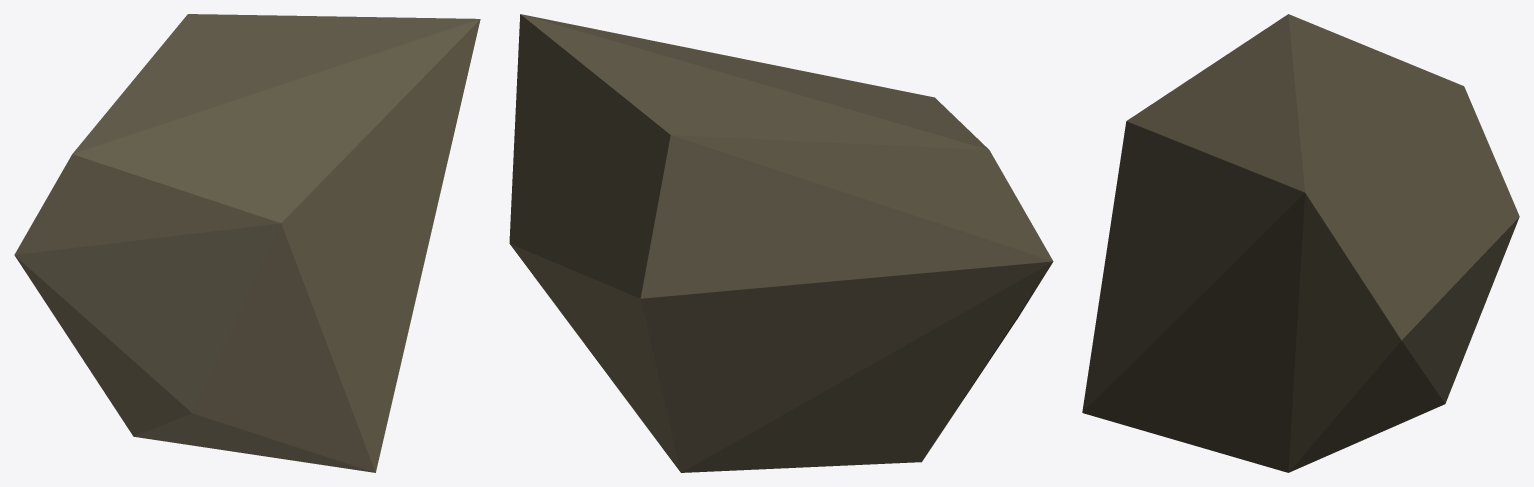
File: Rock-B05.fbx
3 views of the same model, side by side, from view 1: azimuth 30°, elevation 25°; view 2: azimuth 150°, elevation 25°; view 3: azimuth 270°, elevation 25° (orthographic). The views are drawn at different scales.
Parts seen in each view (by area): view 1: Rock-B05; view 2: Rock-B05; view 3: Rock-B05.
Part boxes in pixels (left/top/right/bottom): Rock-B05: left=14, top=14, right=480, bottom=472; Rock-B05: left=509, top=14, right=1053, bottom=472; Rock-B05: left=1082, top=14, right=1519, bottom=472.
Bounding box in the file's own units: 56.97 × 37.4 × 44.75.
